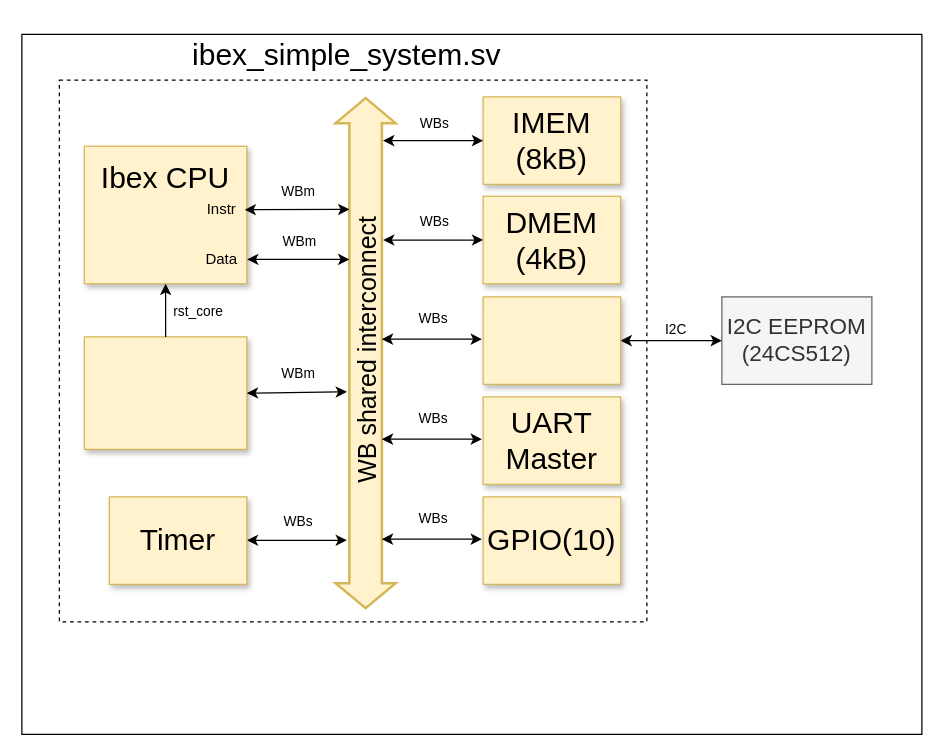
The diagram is 944 pixels wide and 756 high, and some of its shapes have lost their labels. Each missing label, with the centre of its shape:
Bootloader: [166,394]
I2C Master: [552,342]
